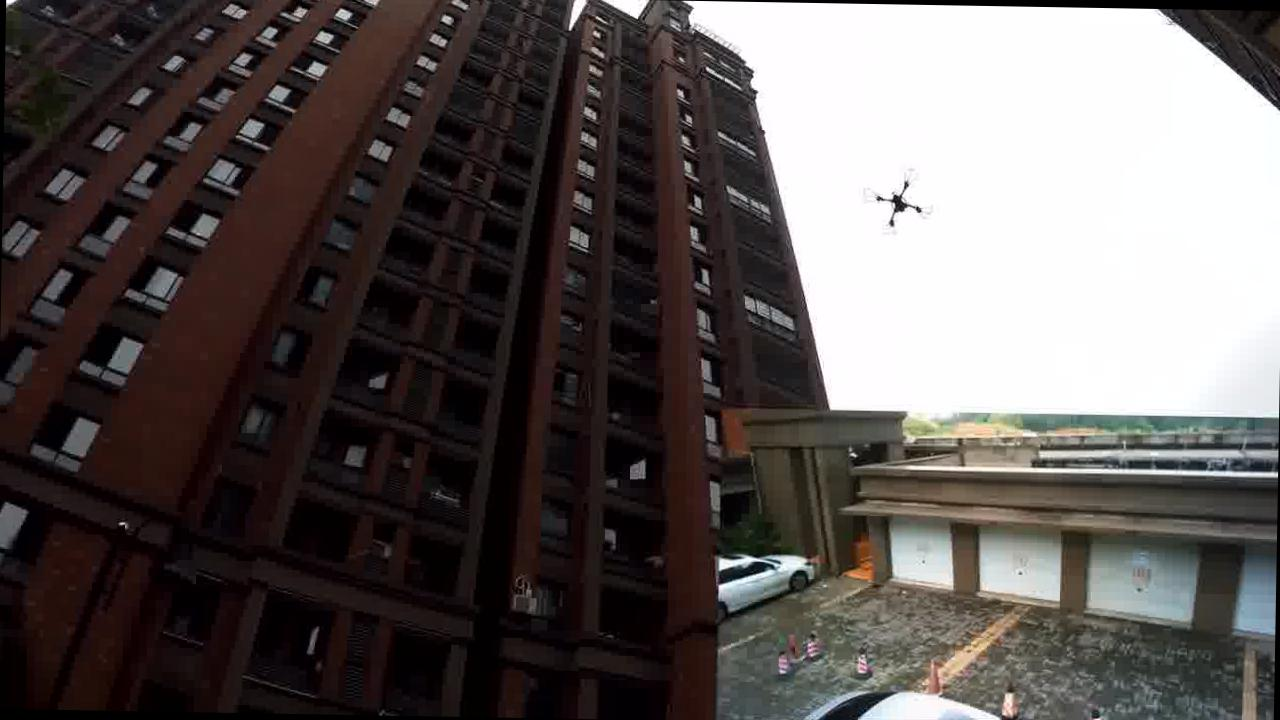drone: (862, 165, 932, 230)
